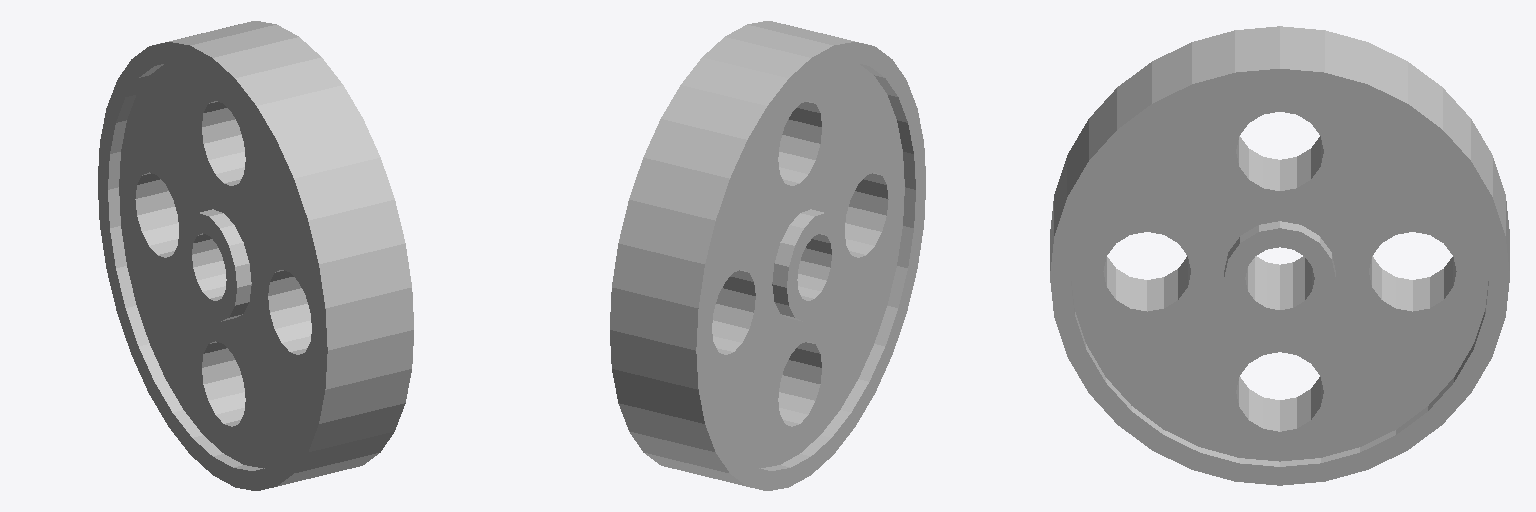
The model's file is wheel_optimized.obj.
3 renders of one model, left to right at view 1: azimuth 30°, elevation 25°; view 2: azimuth 150°, elevation 25°; view 3: azimuth 270°, elevation 25°, orthographic.
Visible parts, largest first — view 1: Окружность.002; view 2: Окружность.002; view 3: Окружность.002.
Boxes of the visible parts, x1,y1,x2,y2 form: Окружность.002: [98, 21, 413, 490]; Окружность.002: [610, 21, 925, 490]; Окружность.002: [1050, 26, 1509, 485].
Size of the model in its own units: 0.5015 by 2.14 by 2.14.